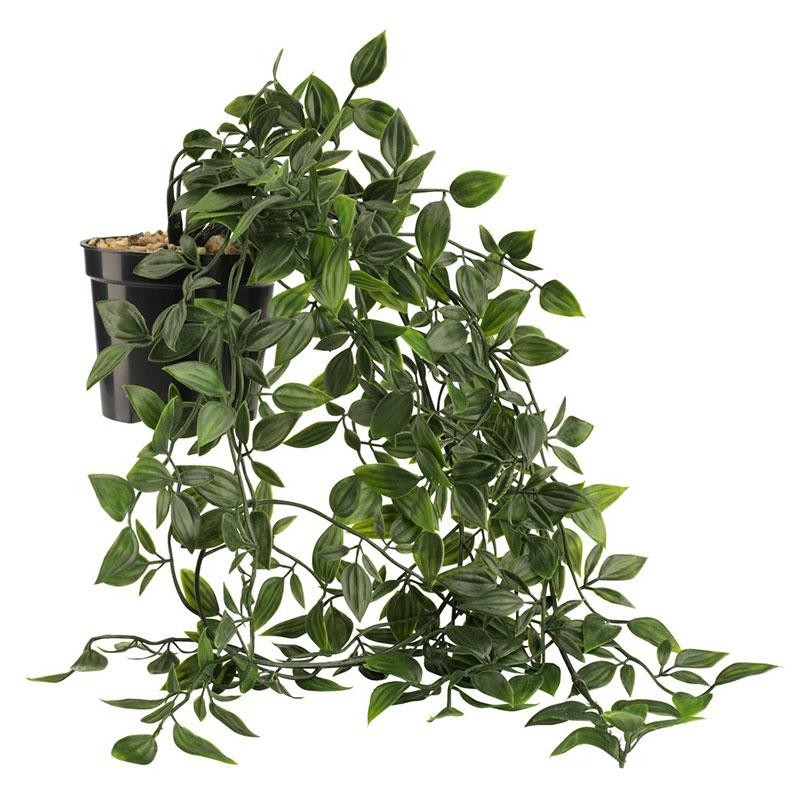plant: (40, 48, 765, 764)
